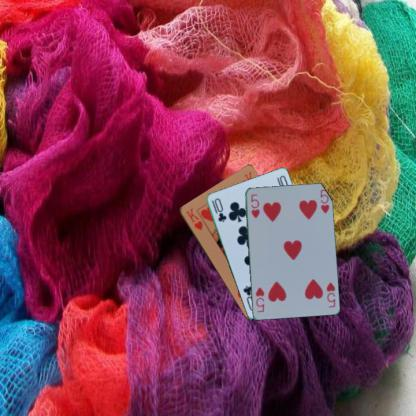10c: (209, 195, 228, 223)
5h: (324, 280, 336, 309), (248, 191, 260, 219)
Kh: (184, 205, 204, 231)
